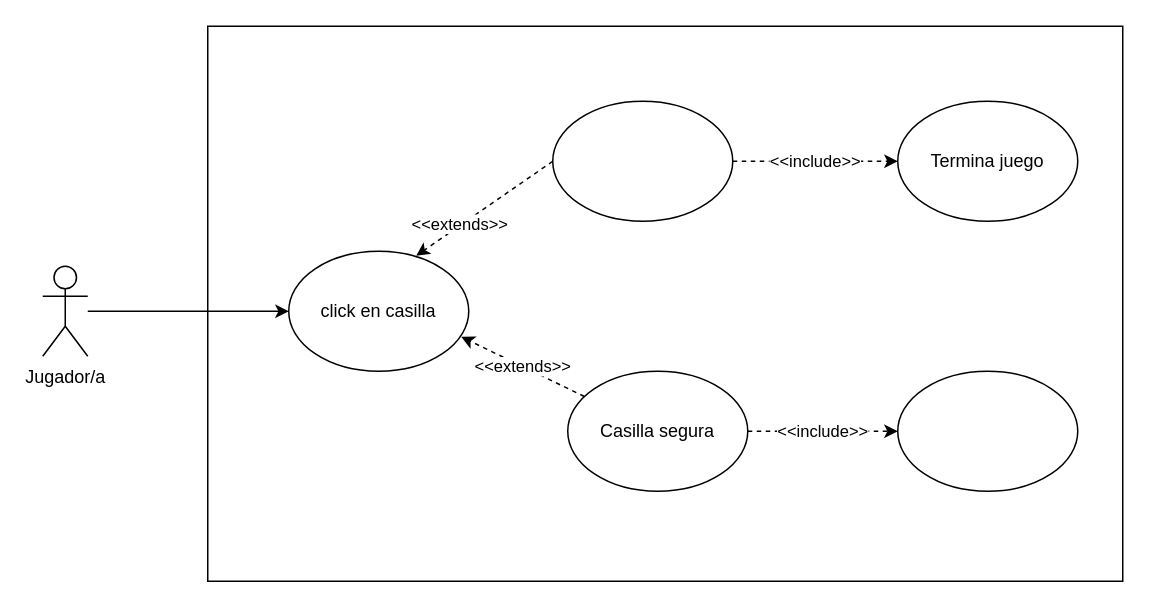
Some shapes in this 1149 by 608 pixel diagram are drawn without their labels. The centre of each missing label's shape, as x and y in pixels:
Continua juego: the point at 987,430
Descubre mina: the point at 642,160
